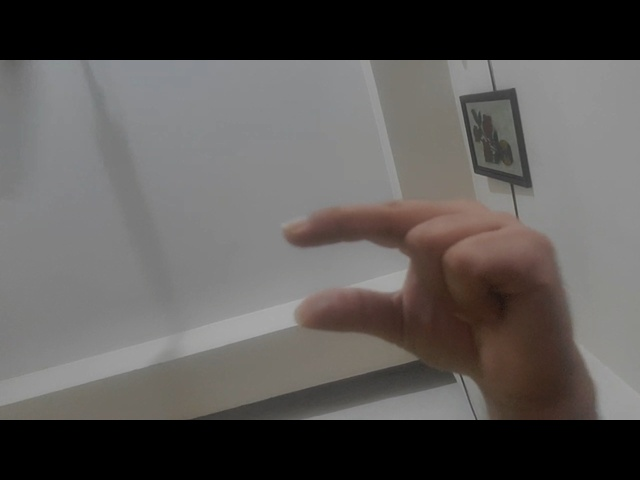No: (248, 172, 591, 391)
